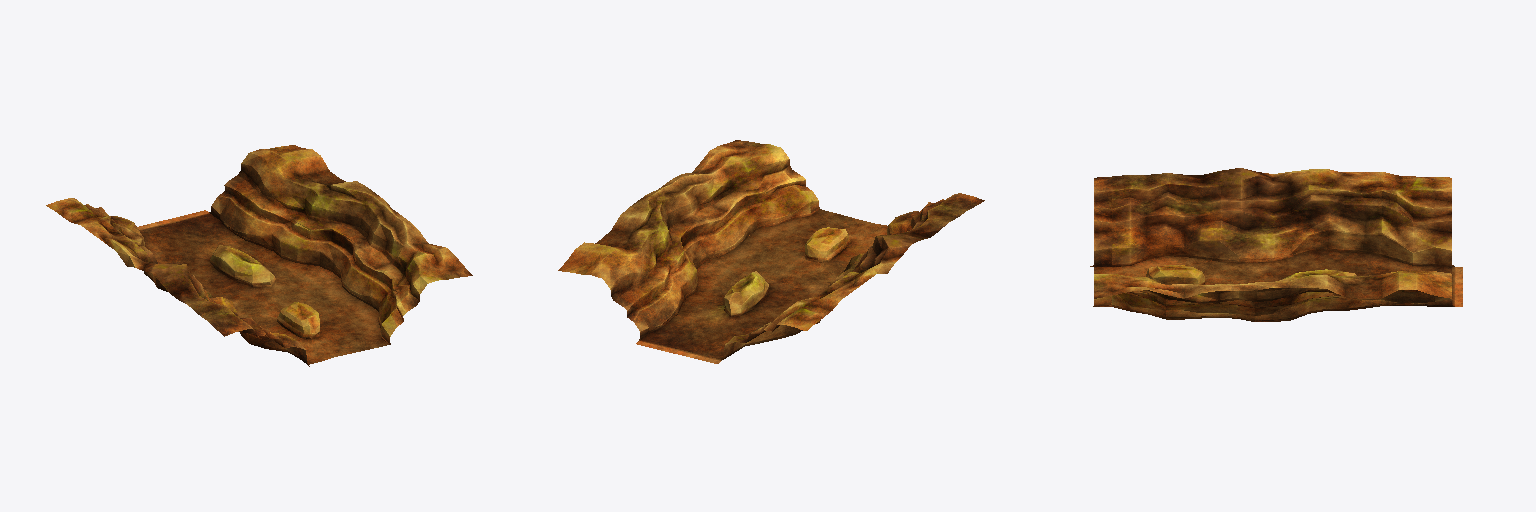
3 views of the same model, side by side, from view 1: azimuth 30°, elevation 25°; view 2: azimuth 150°, elevation 25°; view 3: azimuth 270°, elevation 25° (orthographic).
Parts seen in each view (by area): view 1: 2Divide; view 2: 2Divide; view 3: 2Divide.
Part boxes in pixels (x1,y1,x2,y2): 2Divide: (46,145,472,366); 2Divide: (558,140,984,363); 2Divide: (1090,168,1462,321).
Bounding box in the file's own units: 241 × 58.09 × 319.
1 materials, 1 textured.